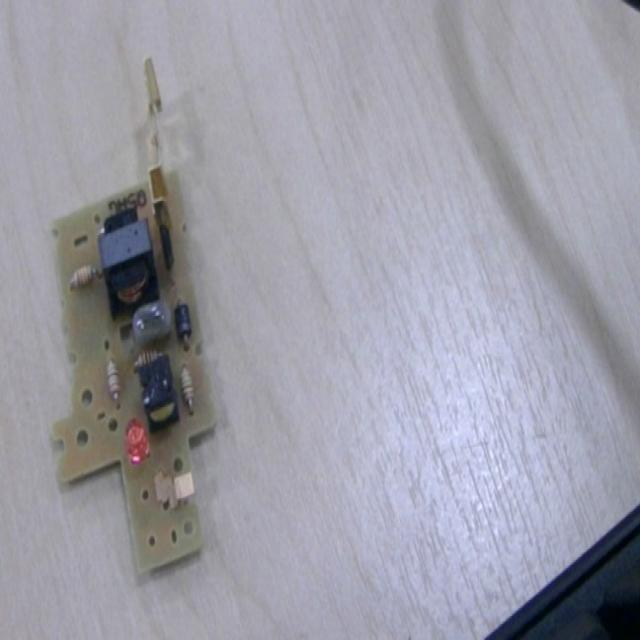019: (140, 356, 180, 434)
223: (132, 303, 174, 343)
DIODE: (173, 297, 194, 353)
LED: (123, 418, 151, 464)
R1: (106, 357, 122, 404)
R2: (132, 348, 166, 371)
R3: (178, 364, 198, 419)
R4: (68, 262, 104, 291)
TCE: (96, 210, 161, 320)
TRANSISTOR: (159, 224, 176, 274)
